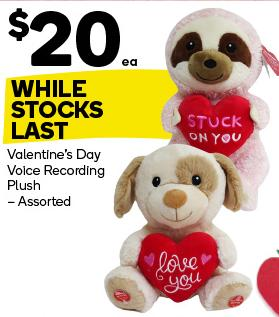description_block: (1, 146, 107, 214)
price_main: (3, 4, 152, 70)
product_image_block: (106, 140, 257, 312)
promo_text_block: (2, 72, 178, 144)
